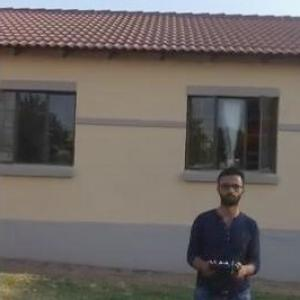follow: (182, 158, 266, 299)
